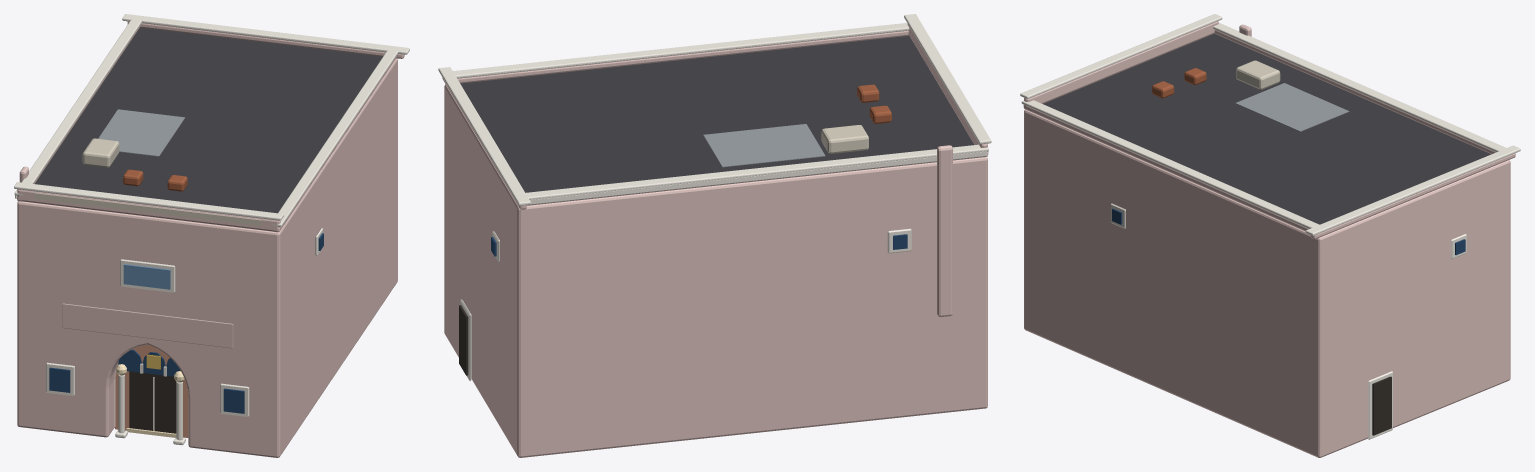
Rendered from 95-jack-london-alley.glb.
The picture shows the model from 3 angles, left to right: view 1: azimuth 30°, elevation 25°; view 2: azimuth 150°, elevation 25°; view 3: azimuth 270°, elevation 25°; orthographic projection. The views are drawn at different scales.
Parts seen in each view (by area): view 1: body, text_name, doors, roof_patch, coping_se, coping_nw, coping_rear, facade_coping, facade_parapet, text_dedicated, parapet_rear, recess_back (+10 smaller); view 2: body, coping_se, coping_nw, roof_patch, nw_flue, parapet_se, dentil_nw, coping_rear, facade_coping, roof_hatch, facade_parapet, rear_door_fill; view 3: body, roof_patch, coping_se, coping_nw, facade_parapet, coping_rear, facade_coping, parapet_se, parapet_nw, rear_door_fill, parapet_rear, roof_hatch (+1 smaller).
Part boxes in pixels (left/top/right/bottom): body: left=17, top=27, right=397, bottom=457; text_name: left=62, top=303, right=233, bottom=348; doors: left=129, top=371, right=176, bottom=433; roof_patch: left=98, top=109, right=185, bottom=156; coping_se: left=272, top=47, right=398, bottom=226; coping_nw: left=14, top=16, right=142, bottom=195; coping_rear: left=122, top=14, right=409, bottom=54; facade_coping: left=14, top=182, right=283, bottom=220; facade_parapet: left=17, top=189, right=280, bottom=231; text_dedicated: left=34, top=193, right=260, bottom=225; parapet_rear: left=127, top=21, right=404, bottom=58; recess_back: left=115, top=345, right=188, bottom=437; body: left=444, top=35, right=987, bottom=457; coping_se: left=446, top=23, right=909, bottom=78; coping_nw: left=517, top=144, right=988, bottom=199; roof_patch: left=703, top=124, right=825, bottom=167; nw_flue: left=937, top=145, right=952, bottom=316; parapet_se: left=444, top=30, right=909, bottom=83; dentil_nw: left=527, top=151, right=987, bottom=205; coping_rear: left=438, top=67, right=530, bottom=205; facade_coping: left=904, top=14, right=991, bottom=144; roof_hatch: left=821, top=125, right=868, bottom=153; facade_parapet: left=907, top=24, right=987, bottom=147; rear_door_fill: left=459, top=305, right=468, bottom=375; body: left=1024, top=33, right=1510, bottom=457; roof_patch: left=1235, top=83, right=1349, bottom=131; coping_se: left=1021, top=100, right=1321, bottom=229; coping_nw: left=1213, top=23, right=1510, bottom=152; facade_parapet: left=1024, top=21, right=1218, bottom=106; coping_rear: left=1305, top=145, right=1520, bottom=235; facade_coping: left=1020, top=14, right=1222, bottom=98; parapet_se: left=1023, top=105, right=1322, bottom=235; parapet_nw: left=1214, top=30, right=1510, bottom=159; rear_door_fill: left=1372, top=376, right=1391, bottom=435; parapet_rear: left=1310, top=153, right=1515, bottom=239; roof_hatch: left=1236, top=60, right=1280, bottom=89.
Size of the model in its own units: 16.2 by 8.4 by 16.09.
